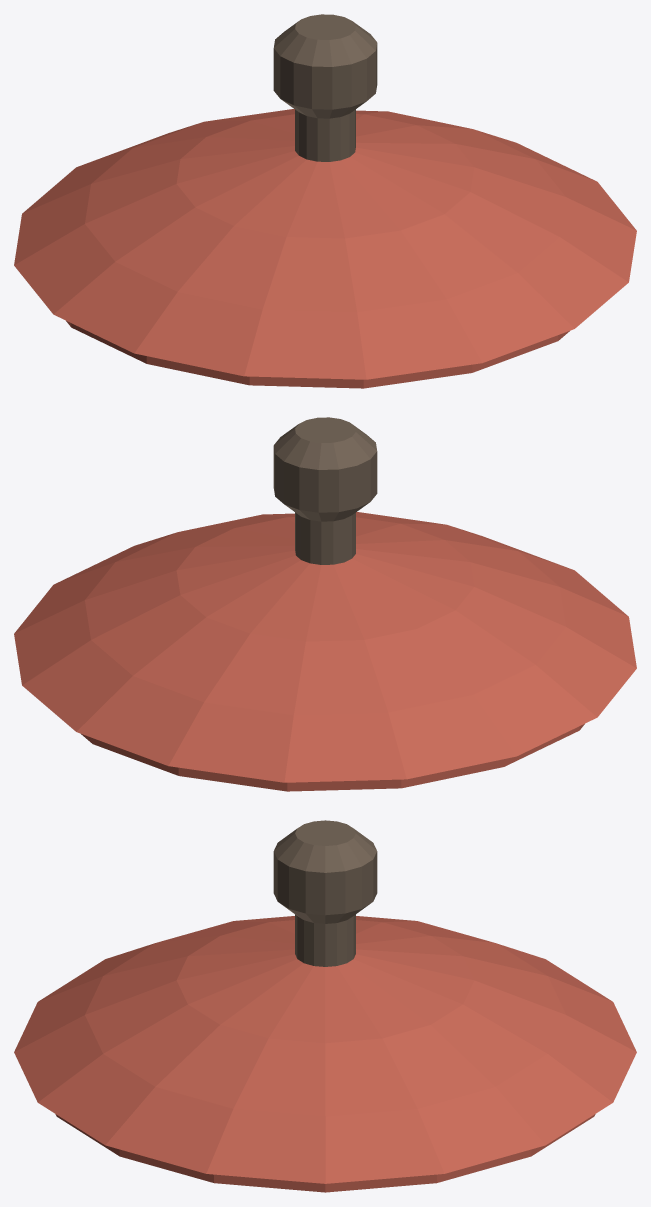
Rendered from Kettle2_C2_02.fbx.
3 renders of one model, top to bottom at view 1: azimuth 30°, elevation 25°; view 2: azimuth 150°, elevation 25°; view 3: azimuth 270°, elevation 25°, orthographic.
Visible parts, largest first — view 1: Kettle2_C2_02; view 2: Kettle2_C2_02; view 3: Kettle2_C2_02.
Part boxes in pixels (x1,y1,x2,y2): Kettle2_C2_02: (14, 14, 636, 388); Kettle2_C2_02: (14, 417, 636, 791); Kettle2_C2_02: (14, 820, 636, 1192).
Bounding box in the file's own units: 13.49 × 5.65 × 13.49.
